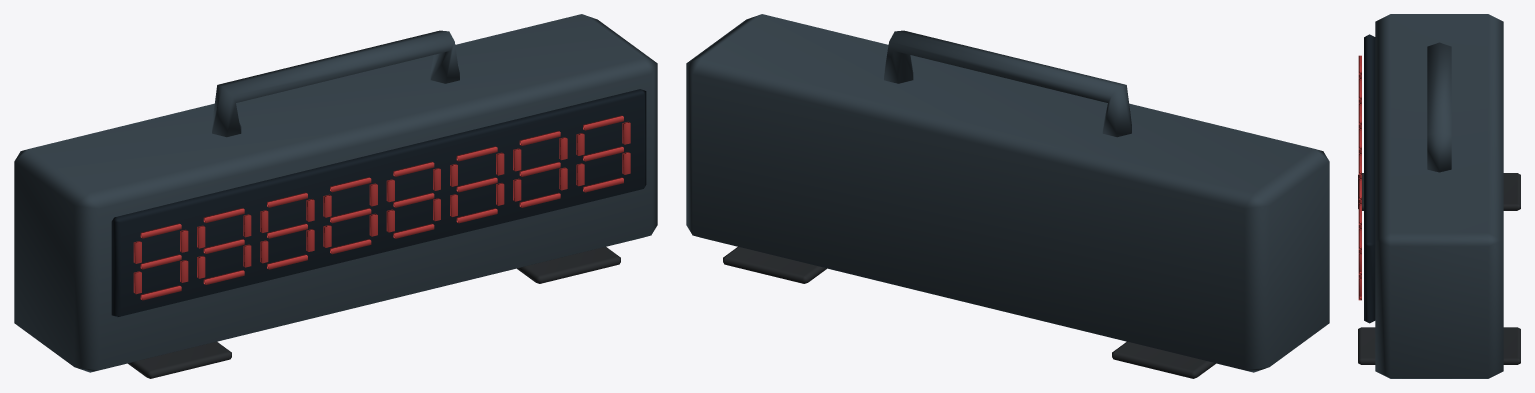
The model's file is P086_timecode_display_rebuilt.glb.
3 views of the same model, side by side, from view 1: azimuth 30°, elevation 25°; view 2: azimuth 150°, elevation 25°; view 3: azimuth 270°, elevation 25° (orthographic). The views are drawn at different scales.
Parts seen in each view (by area): view 1: shell, dark, red, rubber; view 2: shell, rubber; view 3: shell, dark, rubber, red.
Part boxes in pixels (<box>): shell: <box>14,14,657,372</box>; dark: <box>111,89,646,317</box>; red: <box>133,115,630,300</box>; rubber: <box>128,246,620,378</box>; shell: <box>686,14,1329,372</box>; rubber: <box>723,246,1215,378</box>; shell: <box>1375,14,1503,378</box>; dark: <box>1364,34,1375,323</box>; rubber: <box>1358,173,1520,364</box>; red: <box>1358,55,1361,300</box>.
Size of the model in its own units: 0.28 by 0.1045 by 0.0834.
